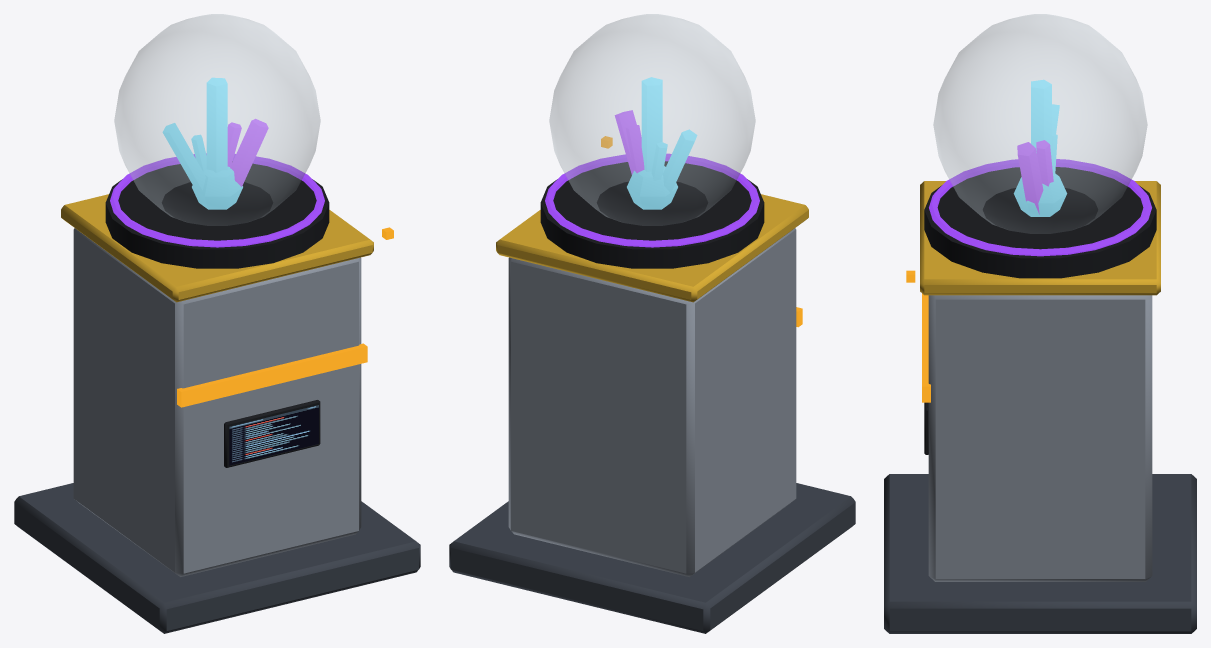
File: specimen_artifact_plinth.glb
3 views of the same model, side by side, from view 1: azimuth 30°, elevation 25°; view 2: azimuth 150°, elevation 25°; view 3: azimuth 270°, elevation 25° (orthographic). The views are drawn at different scales.
Parts seen in each view (by area): view 1: specimen_artifact_plinth; view 2: specimen_artifact_plinth; view 3: specimen_artifact_plinth.
Boxes of the visible parts, x1,y1,x2,y2 form: specimen_artifact_plinth: (14,14,420,633); specimen_artifact_plinth: (449,14,855,633); specimen_artifact_plinth: (884,14,1196,633).
Size of the model in its own units: 0.7 by 1.35 by 0.7.
11 materials, 1 textured.
